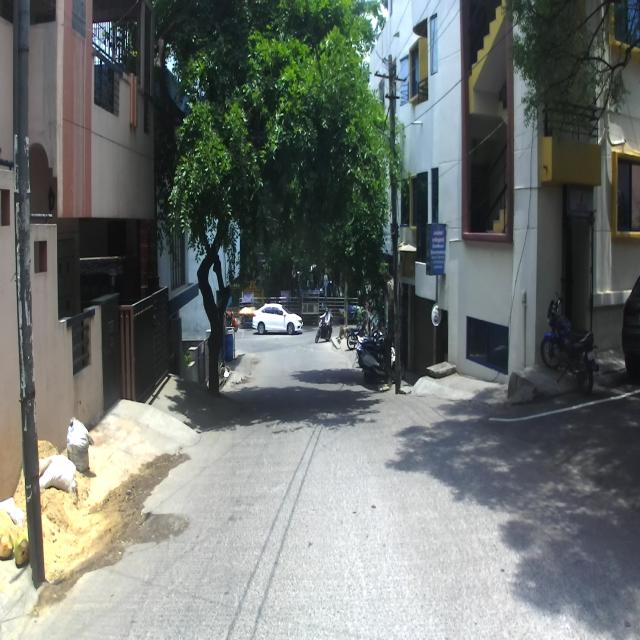car ahead at: (248, 289, 304, 343)
electric pole ahead at: (11, 0, 57, 594), (379, 46, 406, 401)
motorcycle ahead at: (535, 295, 597, 397), (356, 333, 398, 386)
tree ahead at: (195, 222, 239, 399)
